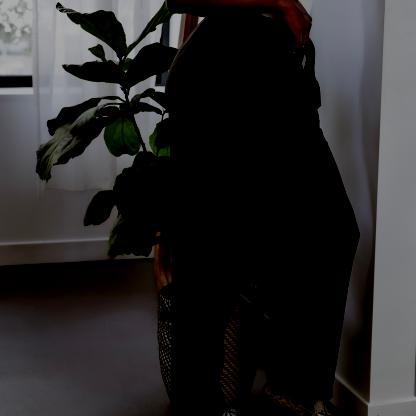dress: (151, 8, 376, 416)
